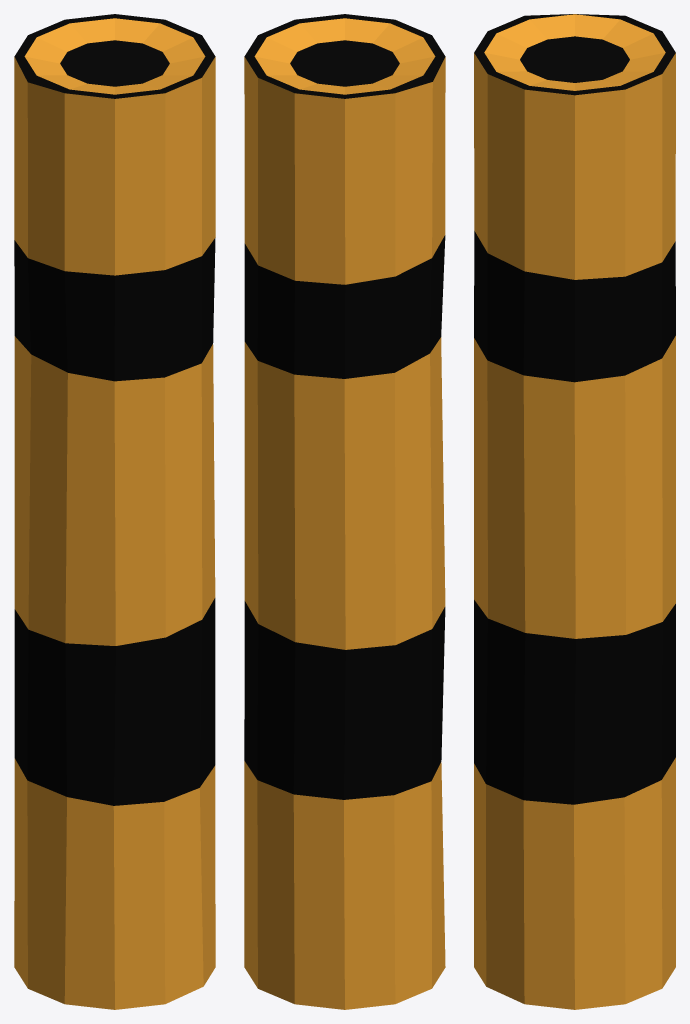
File: Firecracker_DummyFirecracker.fbx
3 renders of one model, left to right at view 1: azimuth 30°, elevation 25°; view 2: azimuth 150°, elevation 25°; view 3: azimuth 270°, elevation 25°, orthographic.
Parts seen in each view (by area): view 1: Firecracker_DummyFirecracker; view 2: Firecracker_DummyFirecracker; view 3: Firecracker_DummyFirecracker.
Part boxes in pixels (<box>): Firecracker_DummyFirecracker: <box>14,14,215,1009</box>; Firecracker_DummyFirecracker: <box>244,14,445,1009</box>; Firecracker_DummyFirecracker: <box>474,14,675,1009</box>.
Bounding box in the file's own units: 0.0501 × 0.25 × 0.05.
